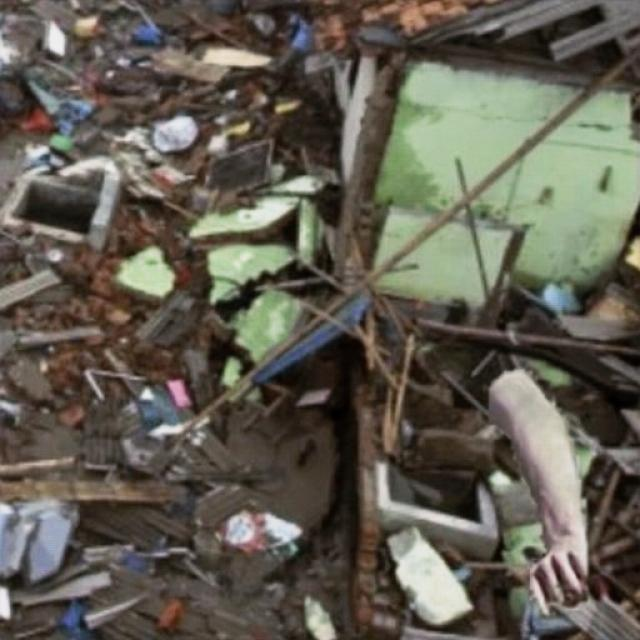Person in Rubble: (488, 369, 586, 615)
